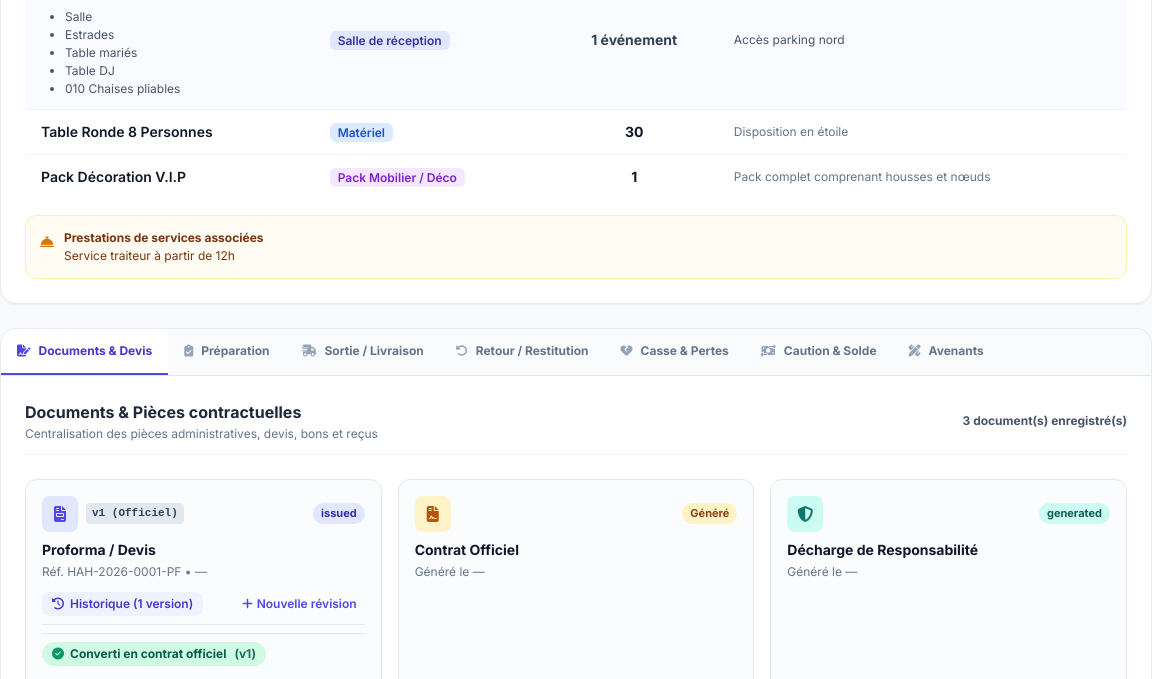
Scenario: HahitantsoaEventDraftDetailPage › switches tabs correctly across the multi-view interface
The width and height of the screenshot is (1152, 679).
(page scrolled)
# Switch to Prep tab
Click the button "Préparation" at (227, 352), box top-left (168, 328), bottom-right (286, 374)
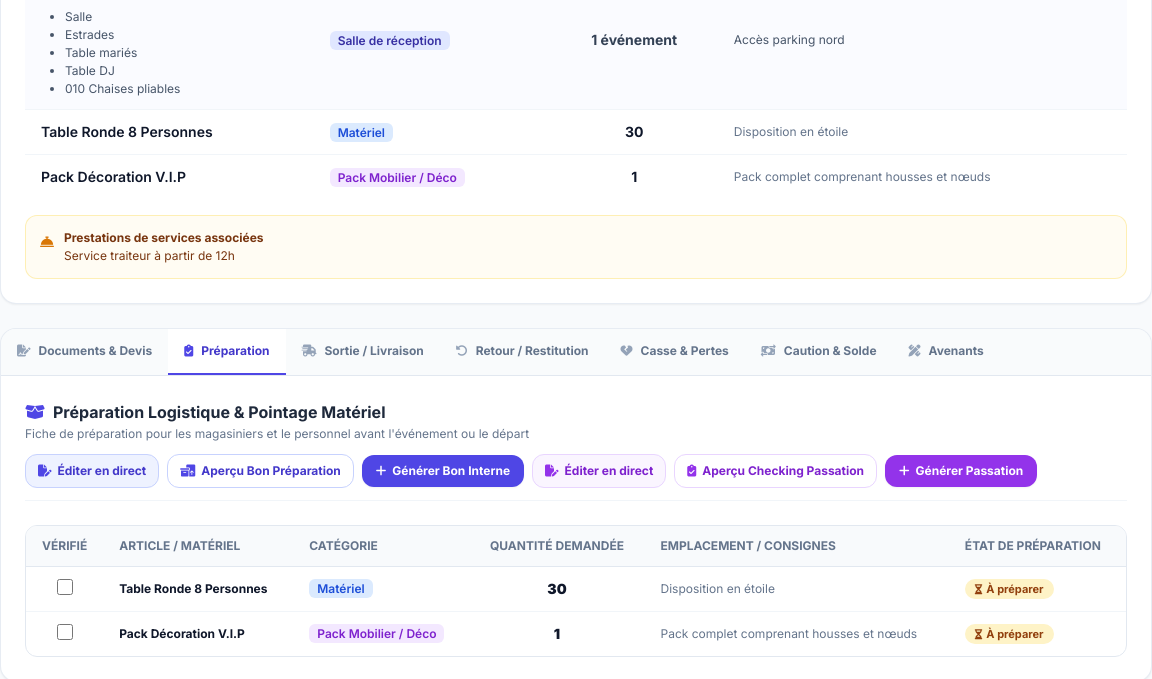
expect the text "Fiche de préparation" is shown: met, box top-left (25, 426), bottom-right (529, 440)
# Switch to Sortie tab
Click the button "Sortie / Livraison" at (363, 352), box top-left (286, 328), bottom-right (440, 374)
(page scrolled)
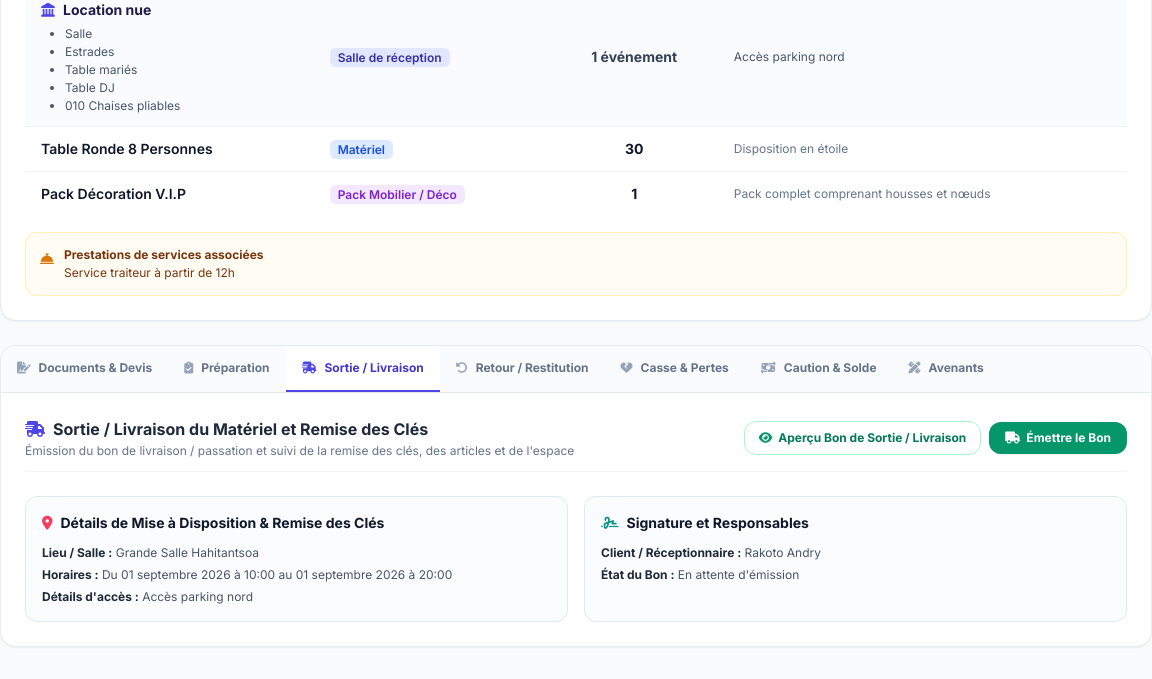
expect the text "bon de livraison" is shown: met, box top-left (25, 442), bottom-right (574, 458)
# Switch to Retour tab
Click the button "Retour / Restitution" at (522, 368), box top-left (440, 346), bottom-right (604, 392)
(page scrolled)
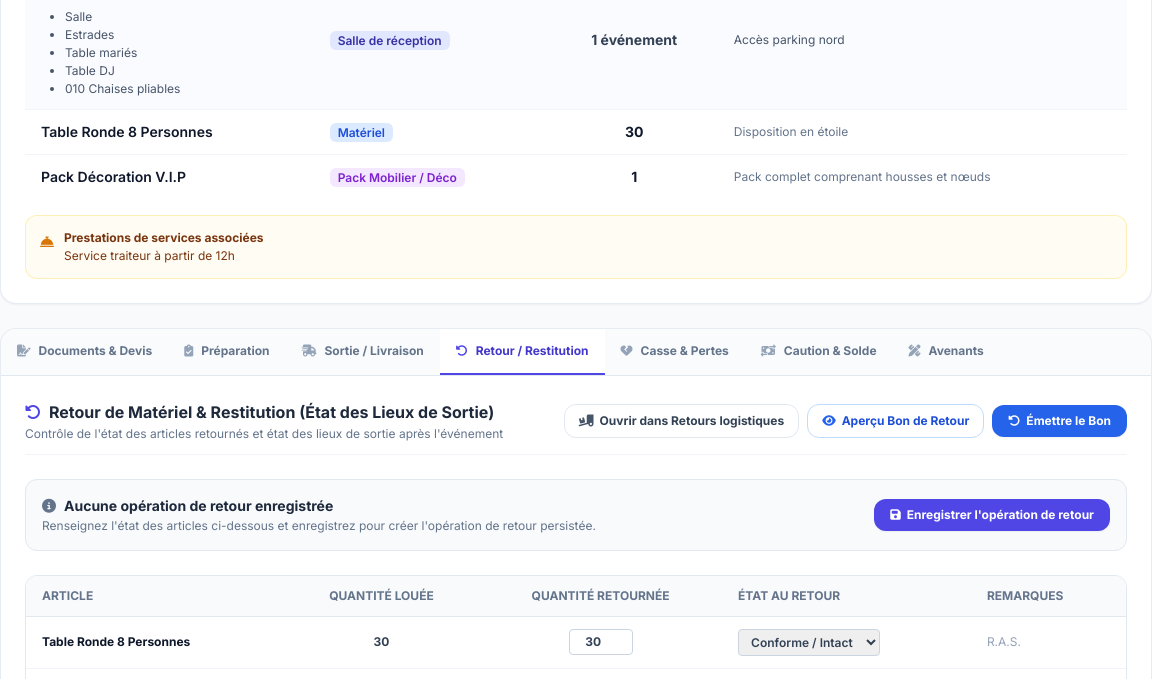
expect the button "Aperçu Bon de Retour" is shown: met, box top-left (807, 404), bottom-right (984, 438)
# Switch to Casse tab
Click the button "Casse & Pertes" at (675, 352), box top-left (604, 328), bottom-right (745, 374)
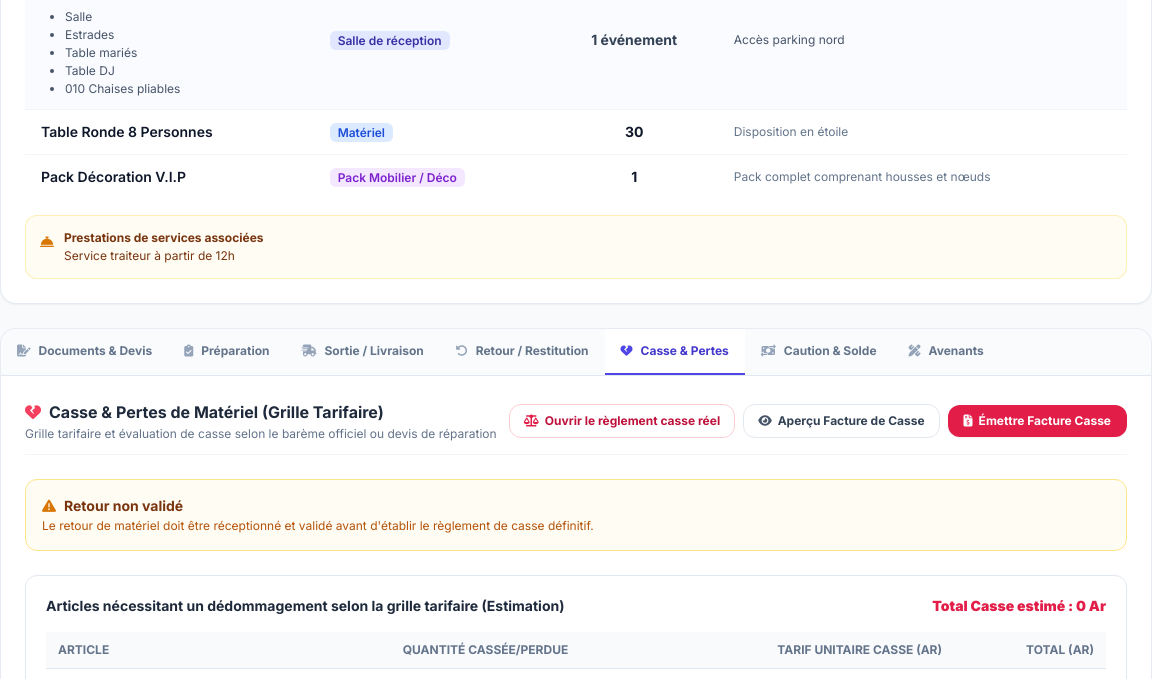
expect the heading "Casse & Pertes de Matériel (Grille Tarifaire)" is shown: met, box top-left (25, 402), bottom-right (384, 422)
# Switch to Caution & Solde tab
Click the button "Caution & Solde" at (819, 352), box top-left (745, 328), bottom-right (892, 374)
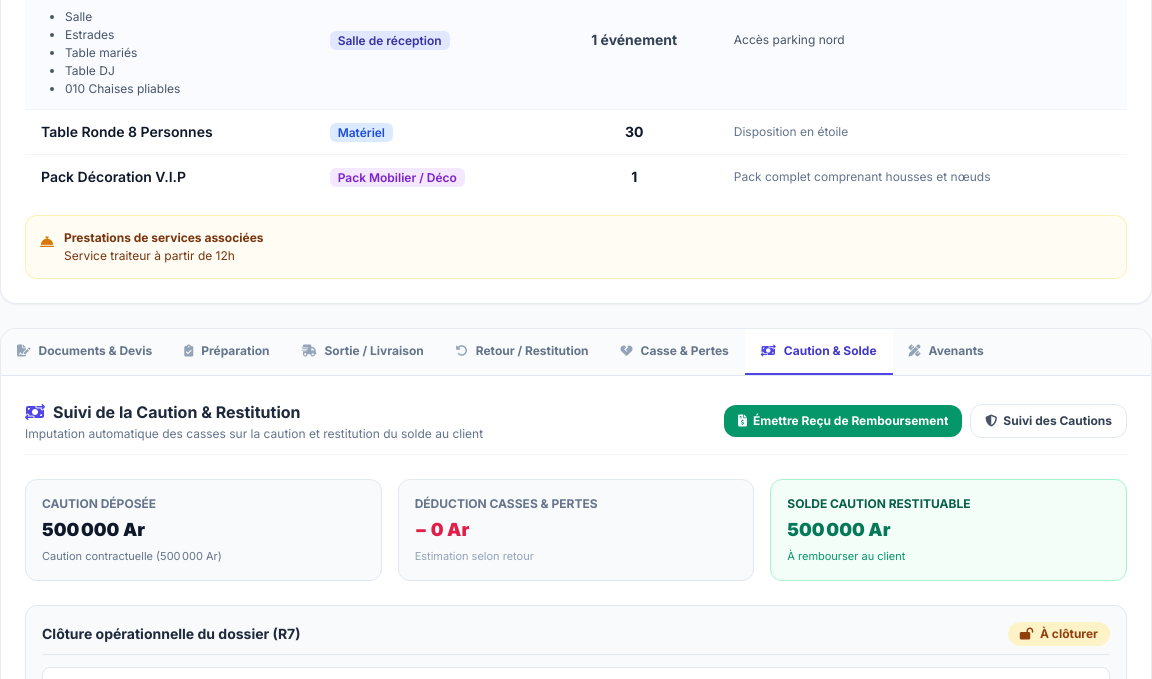
expect the heading "Clôture opérationnelle du dossier (R7)" is shown: met, box top-left (42, 624), bottom-right (300, 644)
# Switch to Avenants tab
Click the button "Avenants" at (946, 352), box top-left (892, 328), bottom-right (1000, 374)
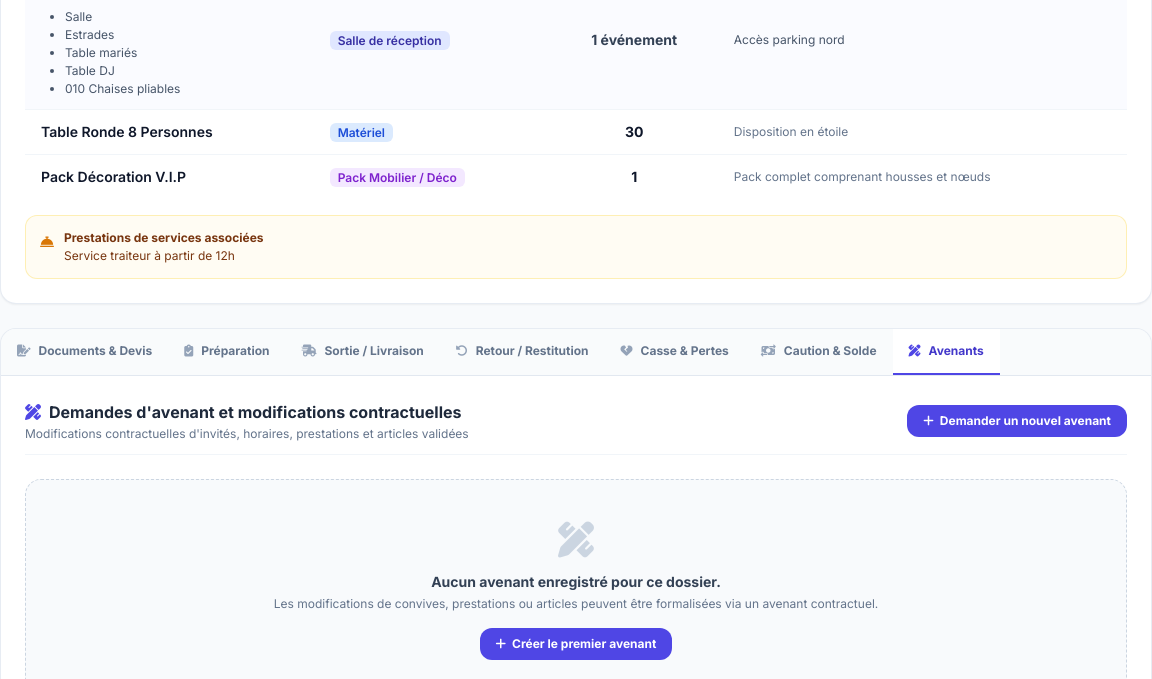
expect the heading "Demandes d'avenant et modifications contractuelles" is shown: met, box top-left (25, 400), bottom-right (469, 424)
